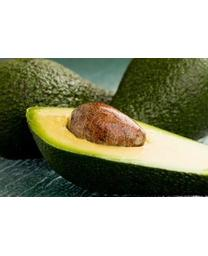avocado: (24, 102, 207, 194)
